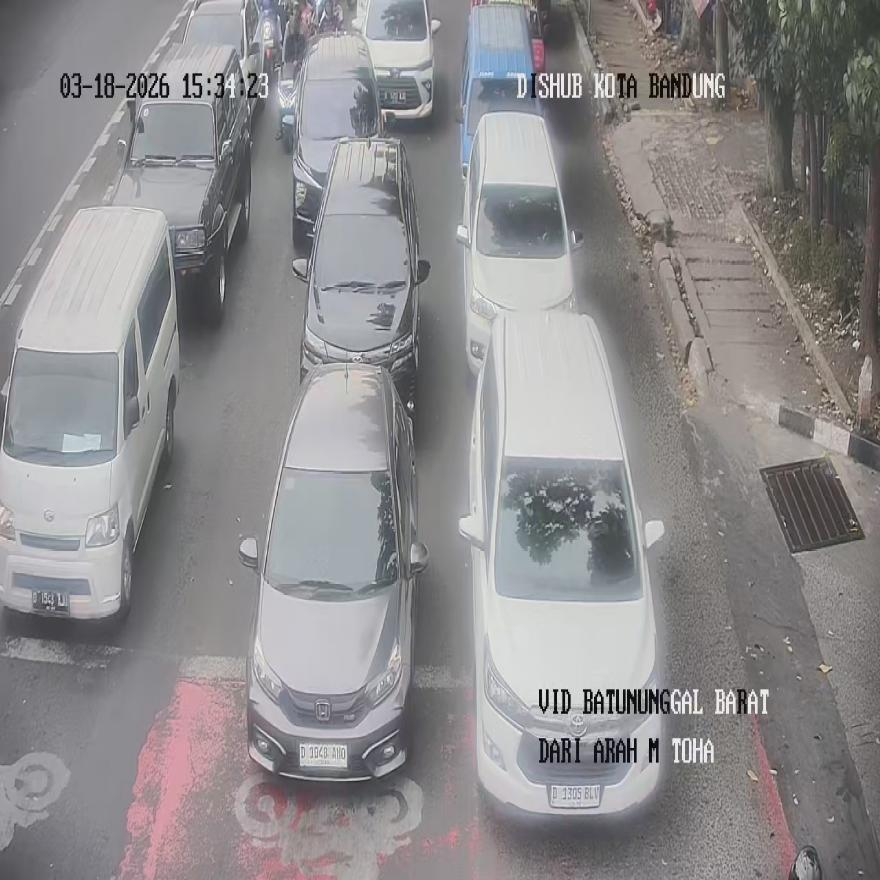Motor: (458, 309, 666, 820), (238, 361, 428, 779), (0, 206, 179, 620), (110, 43, 252, 321), (293, 137, 430, 412), (457, 112, 584, 376), (286, 29, 386, 244), (456, 2, 543, 175), (355, 0, 440, 121), (182, 0, 262, 126)
